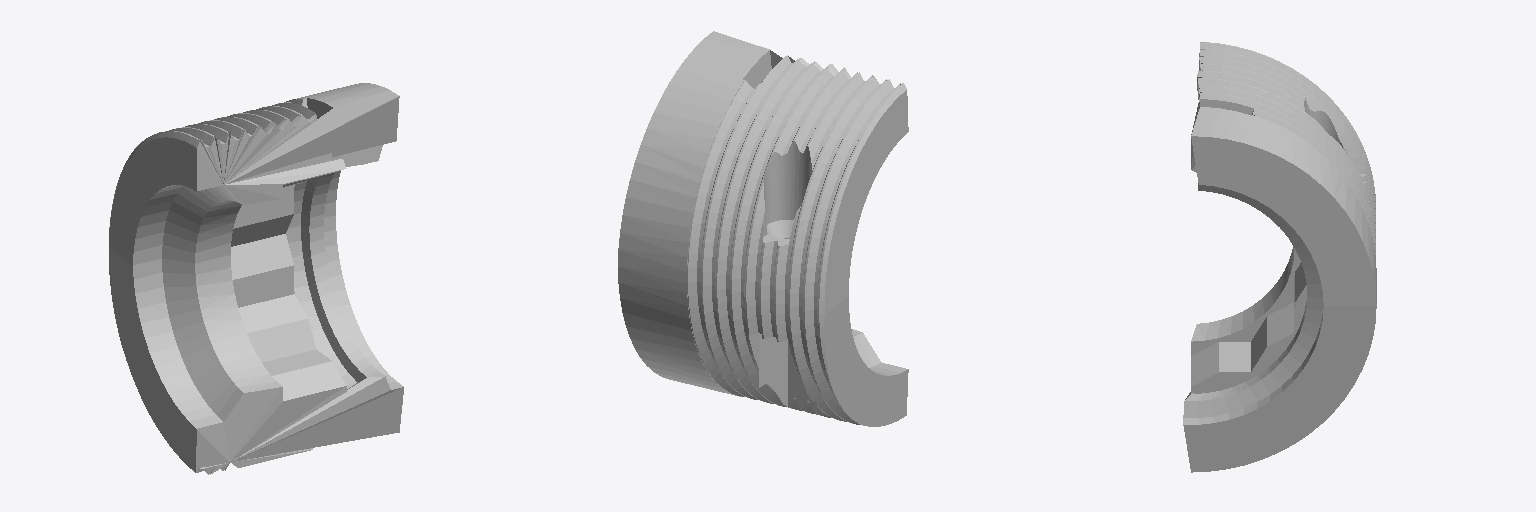
Rendered from adaptador1_direito.obj.
3 renders of one model, left to right at view 1: azimuth 30°, elevation 25°; view 2: azimuth 150°, elevation 25°; view 3: azimuth 270°, elevation 25°, orthographic.
Parts seen in each view (by area): view 1: ConjAdaptadorInteriorRosca_T1Cal_160908.001; view 2: ConjAdaptadorInteriorRosca_T1Cal_160908.001; view 3: ConjAdaptadorInteriorRosca_T1Cal_160908.001.
Part boxes in pixels (left/top/right/bottom): ConjAdaptadorInteriorRosca_T1Cal_160908.001: left=109, top=83, right=403, bottom=474; ConjAdaptadorInteriorRosca_T1Cal_160908.001: left=618, top=31, right=908, bottom=426; ConjAdaptadorInteriorRosca_T1Cal_160908.001: left=1183, top=42, right=1376, bottom=472.
Bounding box in the file's own units: 2.59 × 4.08 × 2.13.